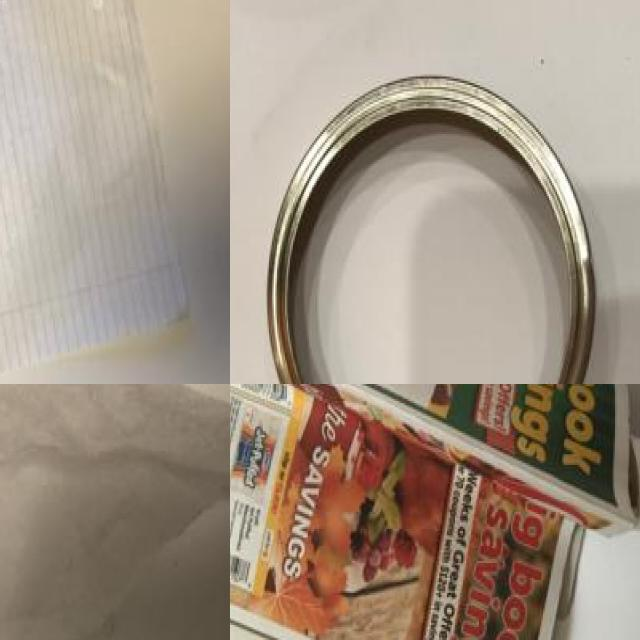paper: (230, 384, 640, 640), (0, 0, 187, 384)
plastic: (256, 51, 608, 384)
trash: (0, 384, 230, 640)
